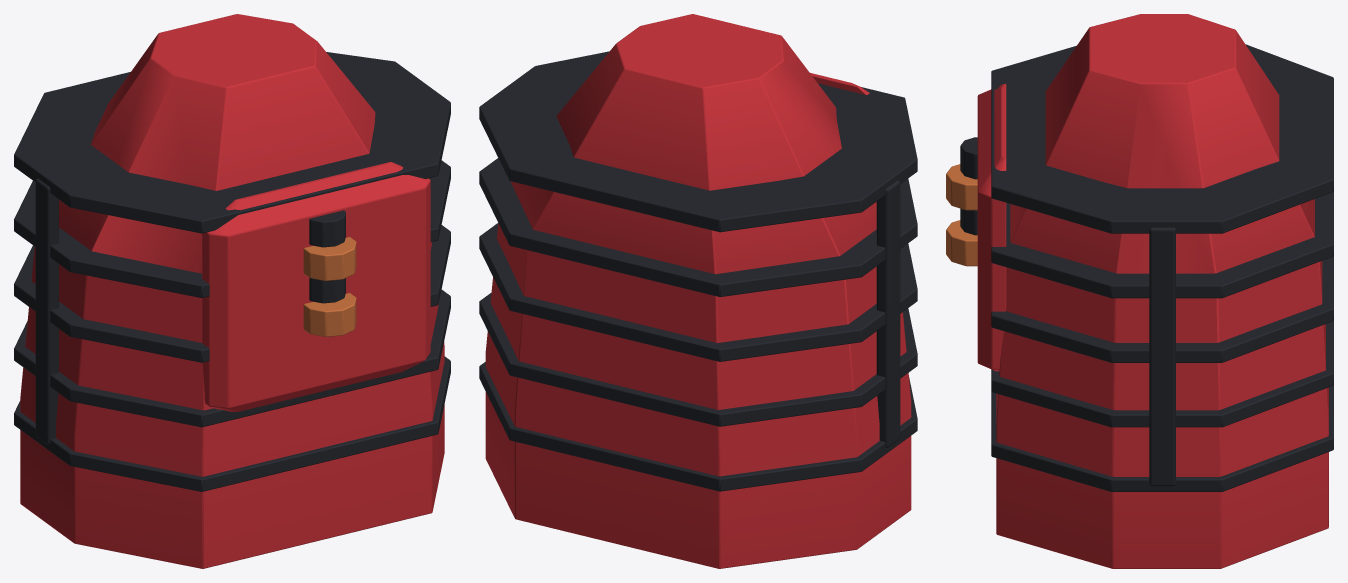
Rendered from QuadBodyFront_Set06_Voltaic.fbx.
The picture shows the model from 3 angles, left to right: view 1: azimuth 30°, elevation 25°; view 2: azimuth 150°, elevation 25°; view 3: azimuth 270°, elevation 25°; orthographic projection.
Parts seen in each view (by area): view 1: QuadBodyFront_Set06_Voltaic; view 2: QuadBodyFront_Set06_Voltaic; view 3: QuadBodyFront_Set06_Voltaic.
Part boxes in pixels (x1=…): QuadBodyFront_Set06_Voltaic: x1=14, y1=14, x2=450, y2=568; QuadBodyFront_Set06_Voltaic: x1=479, y1=14, x2=917, y2=568; QuadBodyFront_Set06_Voltaic: x1=946, y1=14, x2=1333, y2=568.
Size of the model in its own units: 0.94 by 1 by 0.8161.
